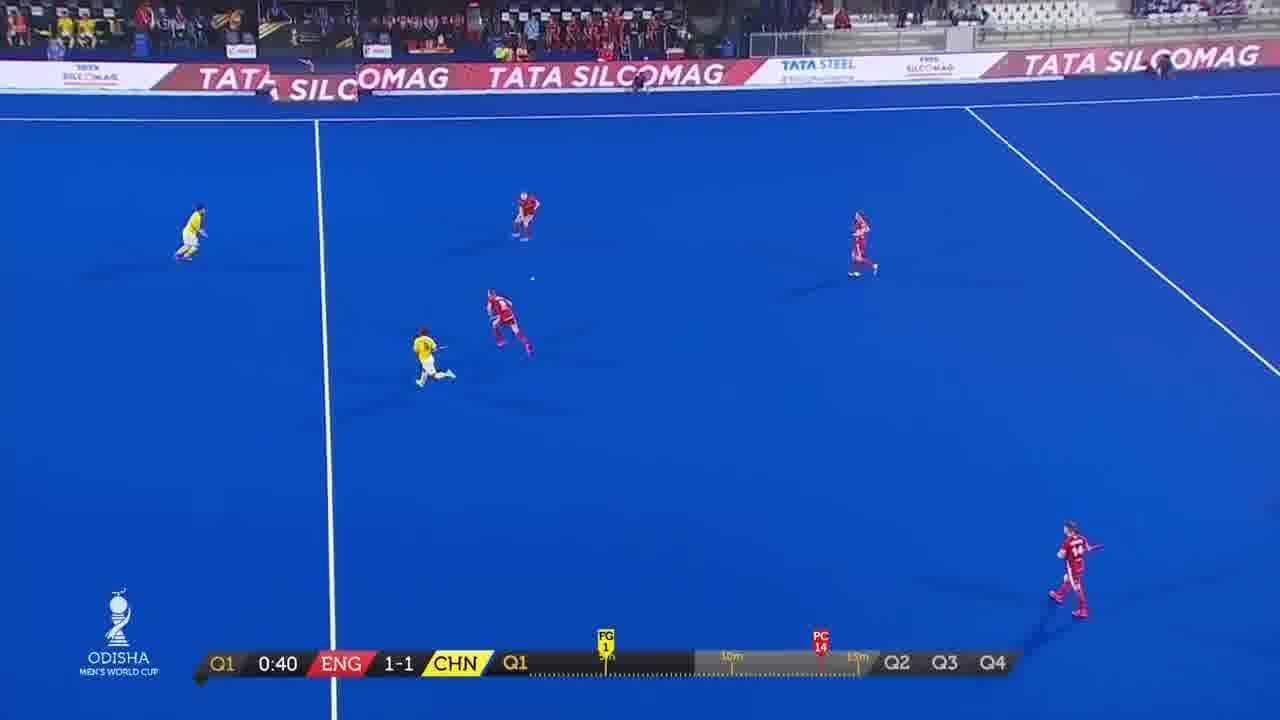ball: (520, 274, 540, 286)
